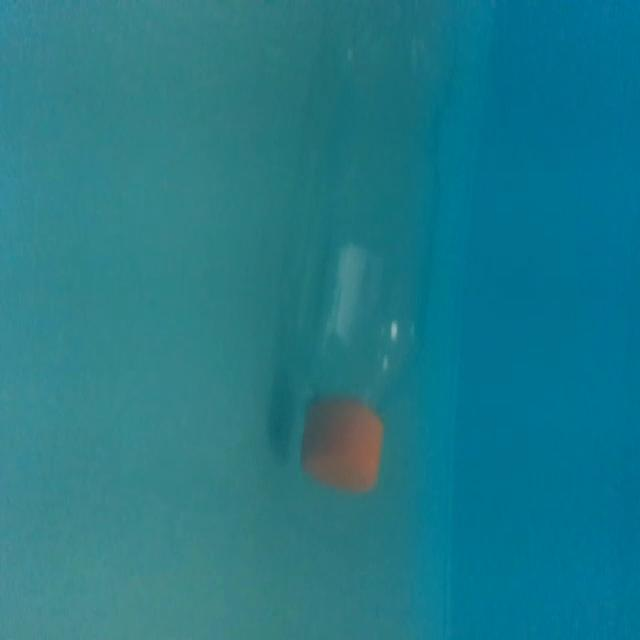plastic bottle: (293, 7, 457, 510)
